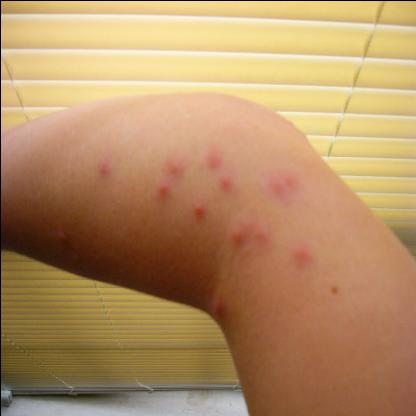Fire ant: (230, 222, 268, 247), (266, 168, 297, 198), (164, 154, 186, 176), (212, 294, 228, 320), (190, 198, 206, 222), (294, 242, 309, 266), (205, 146, 223, 166), (217, 170, 233, 192), (54, 224, 69, 247), (98, 155, 110, 179), (157, 180, 171, 200), (70, 248, 84, 262)
